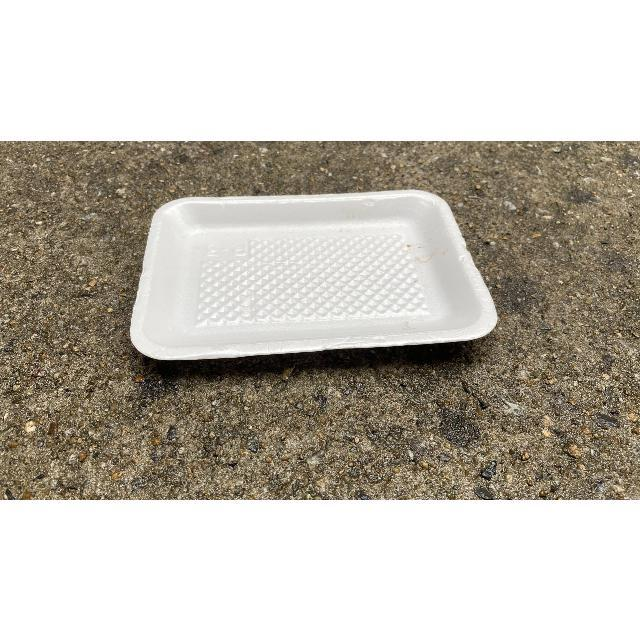Recipiente plastico: (131, 190, 496, 359)
